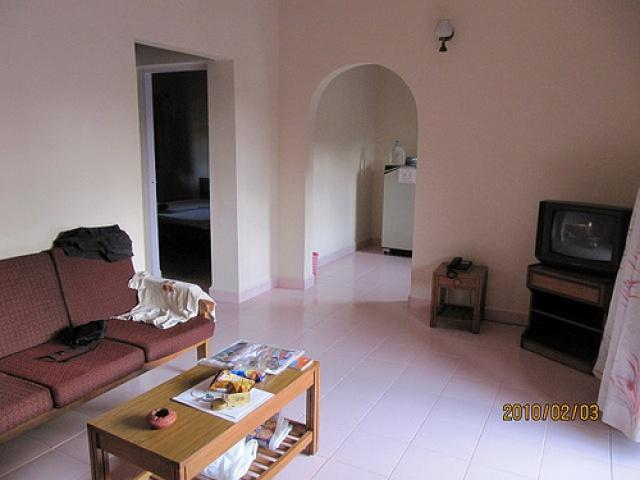Meja: (84, 342, 320, 479)
